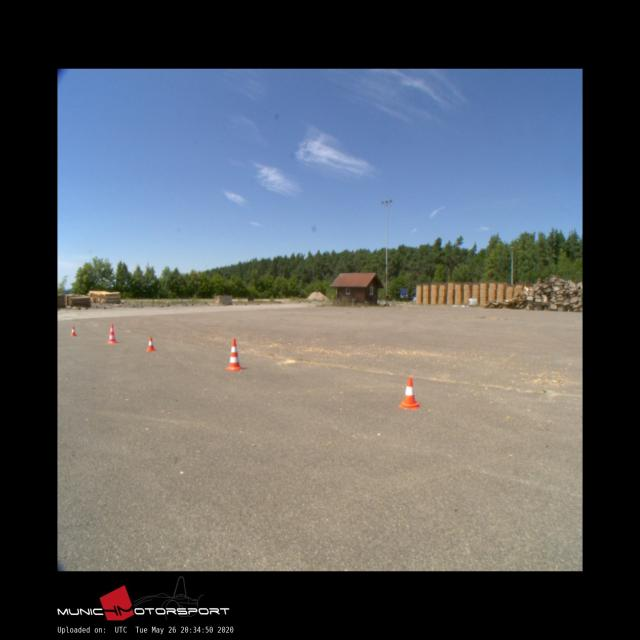large_orange_cone: (226, 338, 243, 370), (106, 324, 116, 343)
orange_cone: (398, 377, 420, 408), (146, 337, 154, 350), (70, 327, 77, 336)
